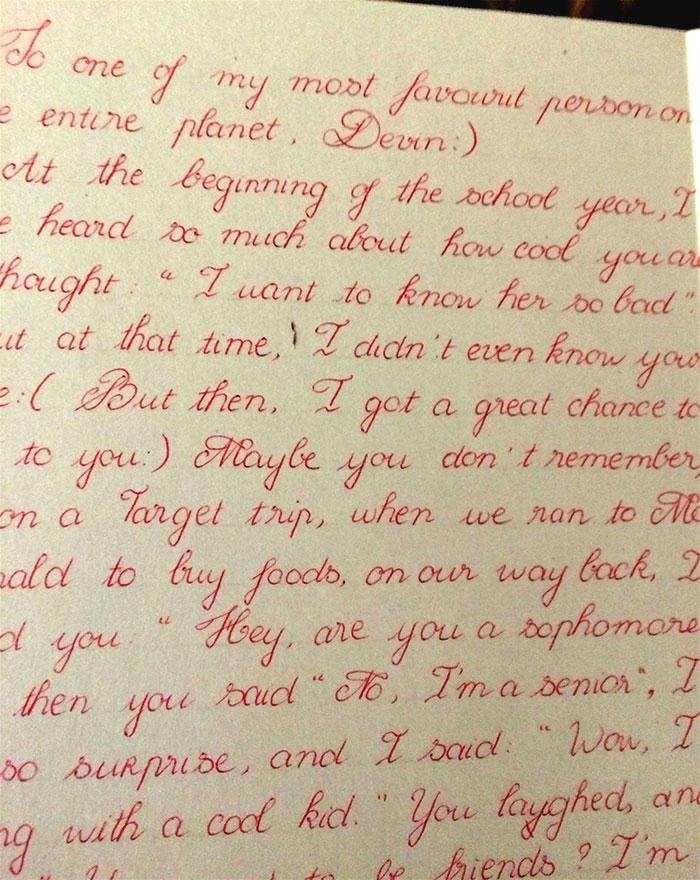text: (0, 17, 693, 130), (0, 774, 700, 877), (0, 197, 700, 288), (0, 145, 698, 235), (0, 709, 700, 797), (12, 653, 700, 741), (0, 309, 700, 395), (0, 601, 700, 676), (0, 250, 699, 320), (0, 545, 700, 614), (0, 484, 700, 551), (0, 372, 700, 438), (8, 432, 700, 497), (0, 824, 691, 880), (0, 98, 482, 162)
